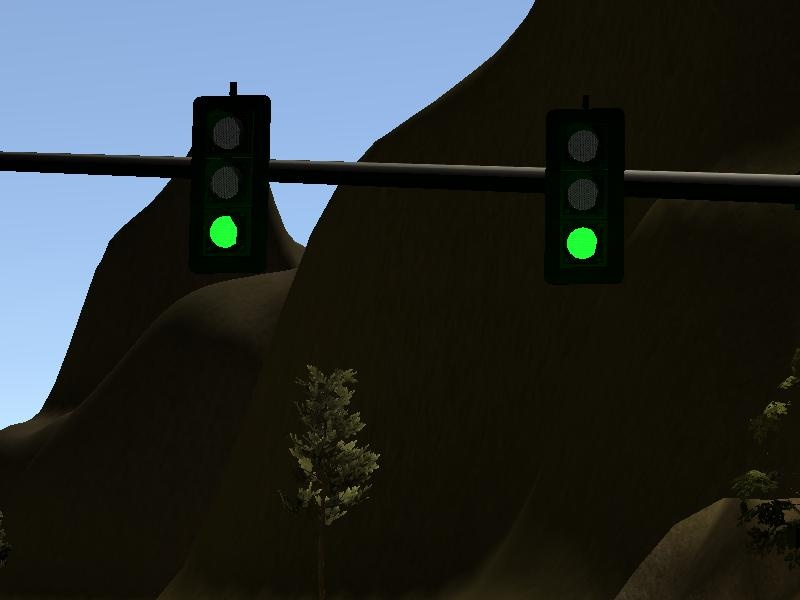GREEN: (192, 94, 269, 267), (543, 113, 621, 283)
